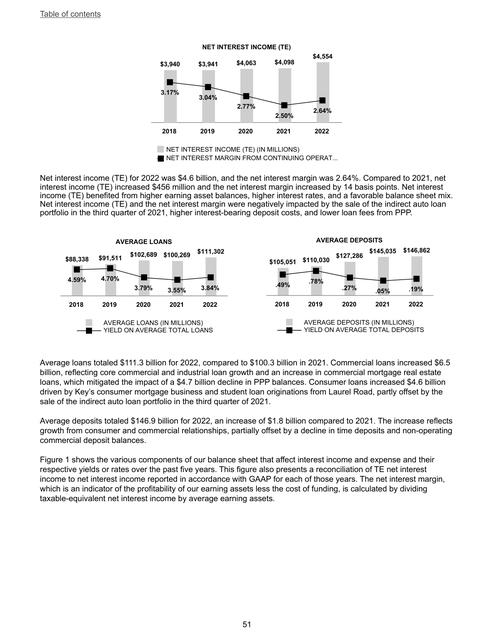box: (156, 42, 343, 163), (267, 235, 432, 335), (62, 238, 227, 336)
